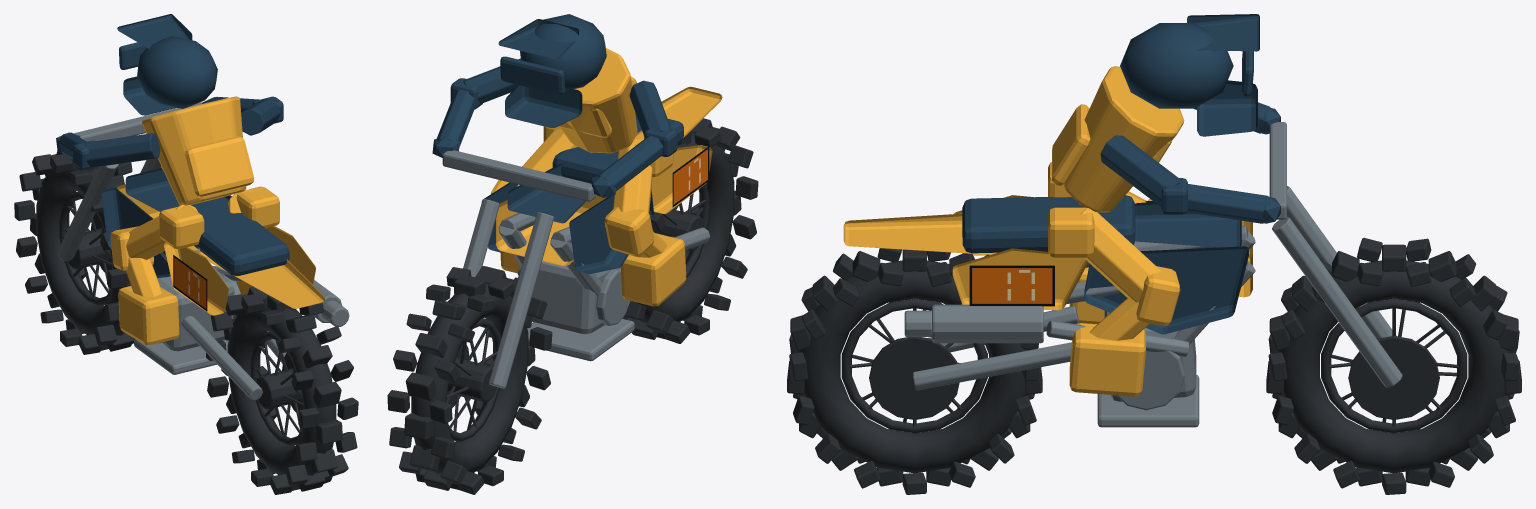
The model's file is rival-pack.glb.
The picture shows the model from 3 angles, left to right: view 1: azimuth 30°, elevation 25°; view 2: azimuth 150°, elevation 25°; view 3: azimuth 270°, elevation 25°; orthographic projection. The views are drawn at different scales.
Visible parts, largest first — view 1: RearWheel_Wheel, FrontWheel_Wheel, BikeStatic_Hardware, RivalTorso_Primary, BikeStatic_Accent, RivalLeftLeg_Primary, RivalHead_Accent, BikeStatic_Primary, RivalLeftArm_Accent, RivalRightLeg_Primary, RivalRightArm_Accent, BikeStatic_NumberField; view 2: FrontWheel_Wheel, BikeStatic_Hardware, RearWheel_Wheel, RivalHead_Accent, RivalLeftLeg_Primary, BikeStatic_Accent, RivalTorso_Primary, BikeStatic_Primary, RivalLeftArm_Accent, RivalRightArm_Accent, RivalRightLeg_Primary, BikeStatic_NumberField; view 3: FrontWheel_Wheel, RearWheel_Wheel, BikeStatic_Hardware, BikeStatic_Accent, RivalRightLeg_Primary, RivalHead_Accent, RivalTorso_Primary, BikeStatic_Primary, RivalRightArm_Accent, BikeStatic_NumberField, RivalLeftLeg_Primary.
Part boxes in pixels (x1,y1,x2,y2): RearWheel_Wheel: [206, 286, 358, 494]; FrontWheel_Wheel: [14, 151, 134, 354]; BikeStatic_Hardware: [57, 102, 349, 400]; RivalTorso_Primary: [142, 96, 253, 205]; BikeStatic_Accent: [101, 168, 289, 277]; RivalLeftLeg_Primary: [110, 204, 204, 345]; RivalHead_Accent: [117, 14, 217, 115]; BikeStatic_Primary: [116, 184, 324, 315]; RivalLeftArm_Accent: [56, 132, 160, 169]; RivalRightLeg_Primary: [228, 186, 279, 295]; RivalRightArm_Accent: [202, 96, 283, 135]; BikeStatic_NumberField: [173, 255, 207, 311]; FrontWheel_Wheel: [387, 266, 552, 494]; BikeStatic_Hardware: [442, 150, 710, 388]; RearWheel_Wheel: [622, 118, 758, 343]; RivalHead_Accent: [498, 14, 606, 127]; RivalLeftLeg_Primary: [604, 130, 686, 306]; BikeStatic_Accent: [481, 113, 683, 274]; RivalTorso_Primary: [558, 48, 637, 153]; BikeStatic_Primary: [496, 86, 722, 265]; RivalLeftArm_Accent: [590, 80, 677, 197]; RivalRightArm_Accent: [432, 58, 520, 157]; RivalRightLeg_Primary: [491, 126, 577, 273]; BikeStatic_NumberField: [672, 146, 709, 207]; FrontWheel_Wheel: [1266, 237, 1521, 494]; RearWheel_Wheel: [787, 248, 1042, 494]; BikeStatic_Hardware: [904, 122, 1402, 427]; BikeStatic_Accent: [962, 195, 1248, 334]; RivalRightLeg_Primary: [1048, 207, 1180, 396]; RivalHead_Accent: [1120, 14, 1259, 136]; RivalTorso_Primary: [1052, 66, 1184, 212]; BikeStatic_Primary: [843, 195, 1252, 310]; RivalRightArm_Accent: [1100, 135, 1280, 223]; BikeStatic_NumberField: [969, 265, 1054, 306]; RivalLeftLeg_Primary: [1048, 162, 1152, 324].
Bounding box in the file's own units: 1.45 × 2.47 × 3.62.
5 materials, 1 textured.
